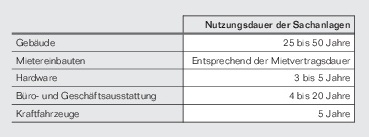table: (0, 0, 369, 137)
